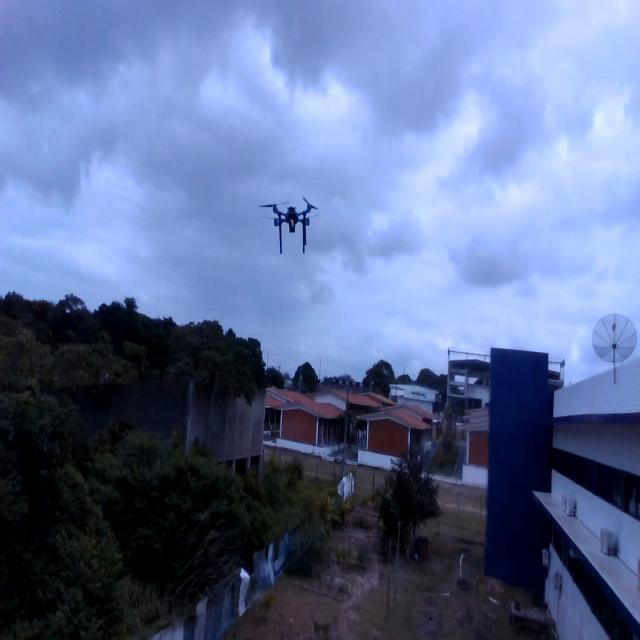-uav-: (257, 187, 331, 265)
